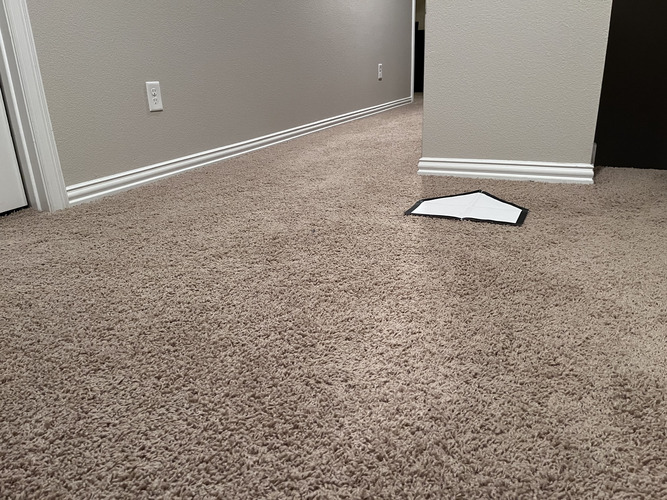homeplate: (403, 189, 528, 227)
